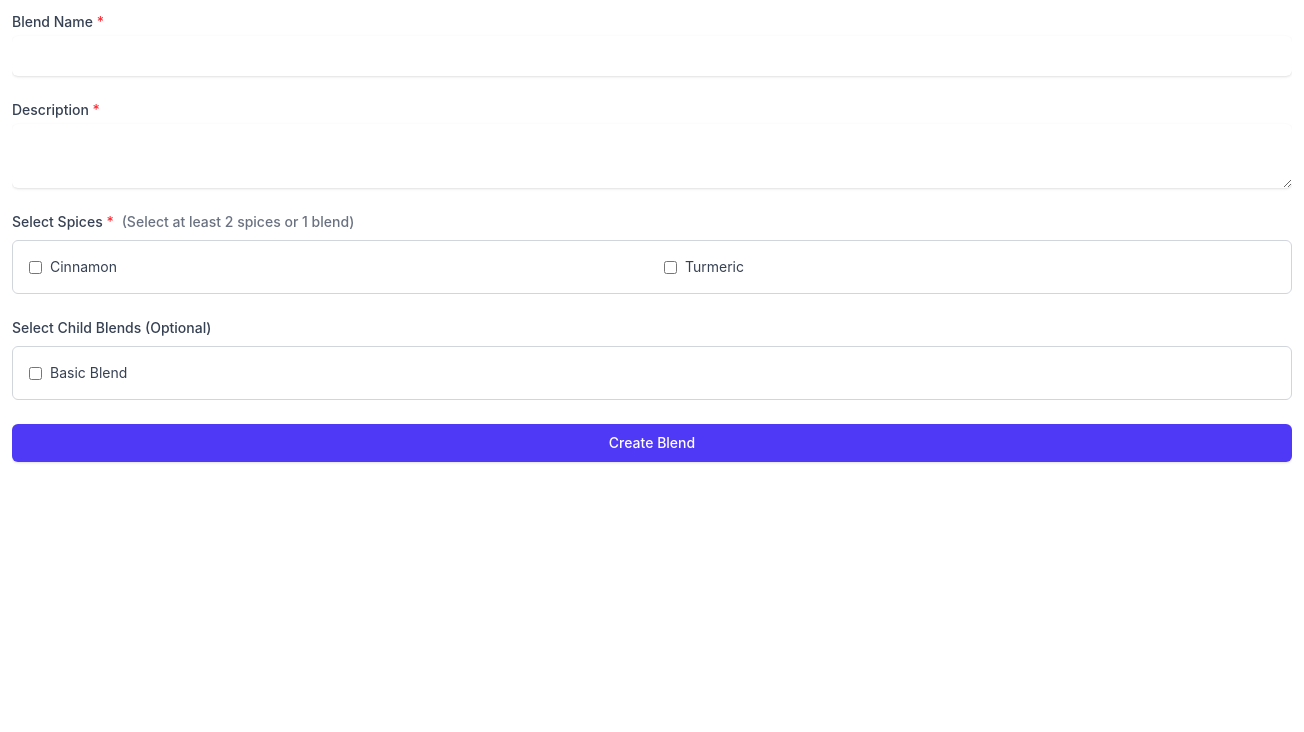
Scenario: CreateBlendForm › shows validation errors when submitting empty form
Click the button "Create Blend".
click(652, 443)  # box [12,424,1292,462]
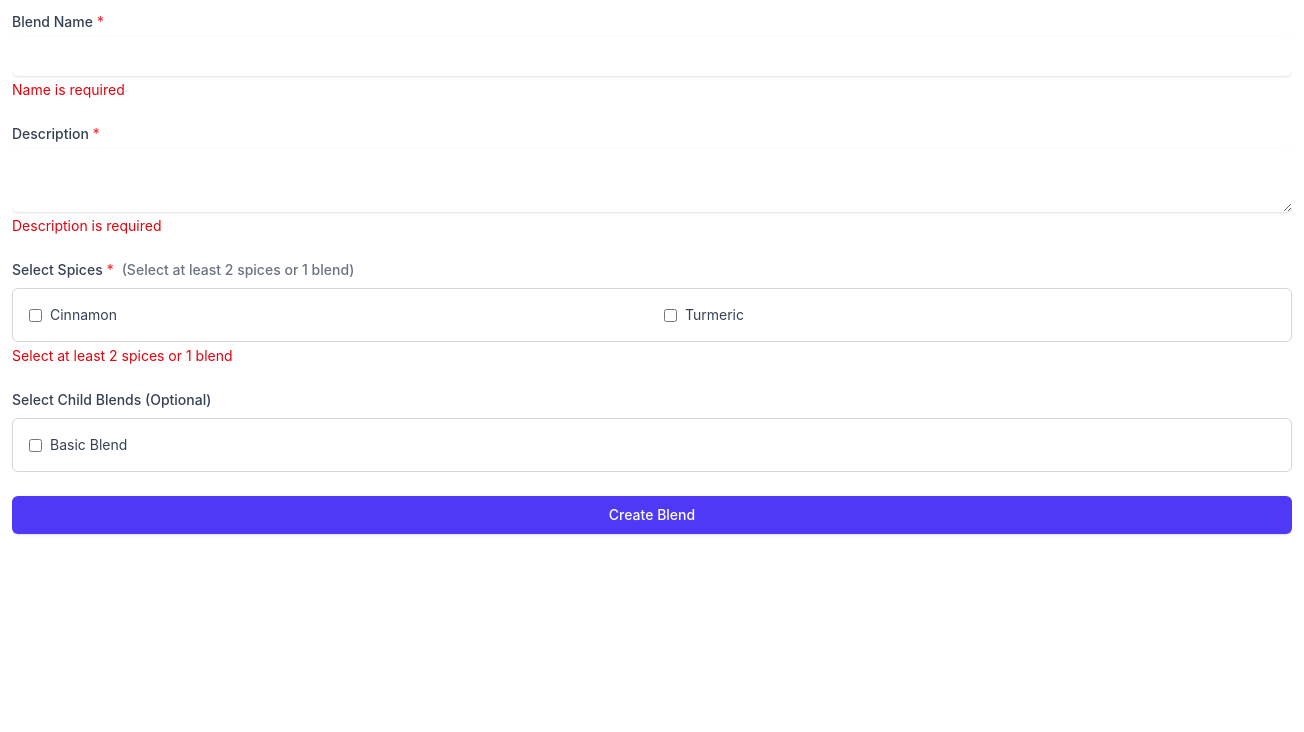
Result: the text "Name is required" is shown at [12,81,125,98]
Result: the text "Description is required" is shown at [12,217,162,234]
Result: the message with id "spices-error" reads "Select at least 2 spices or 1 blend" at [12,347,233,364]
